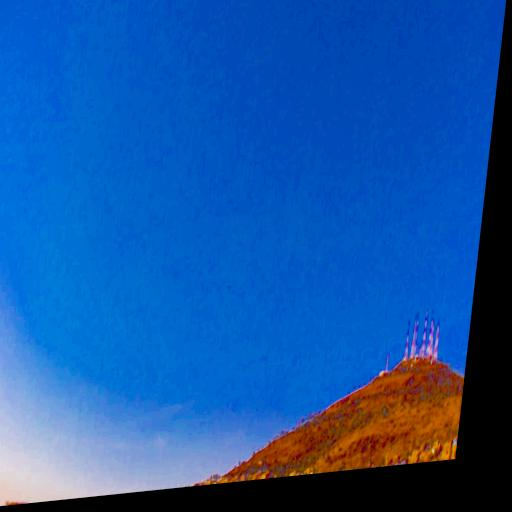drones: (224, 280, 235, 296)
